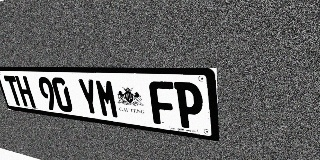0: (50, 77, 74, 113)
9: (36, 77, 59, 111)
F: (148, 81, 177, 127)
H: (15, 76, 36, 108)
M: (94, 79, 120, 119)
P: (174, 82, 204, 130)
T: (3, 75, 24, 106)
Y: (76, 78, 101, 117)
